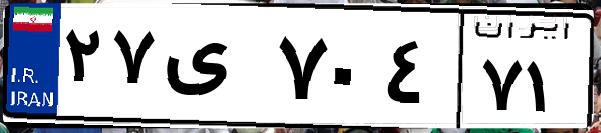0: (330, 28, 385, 110)
1: (525, 38, 570, 115)
2: (57, 26, 110, 100)
4: (385, 28, 445, 110)
7: (270, 28, 330, 110), (475, 38, 525, 113), (110, 28, 158, 98)
ی: (158, 20, 270, 120)
